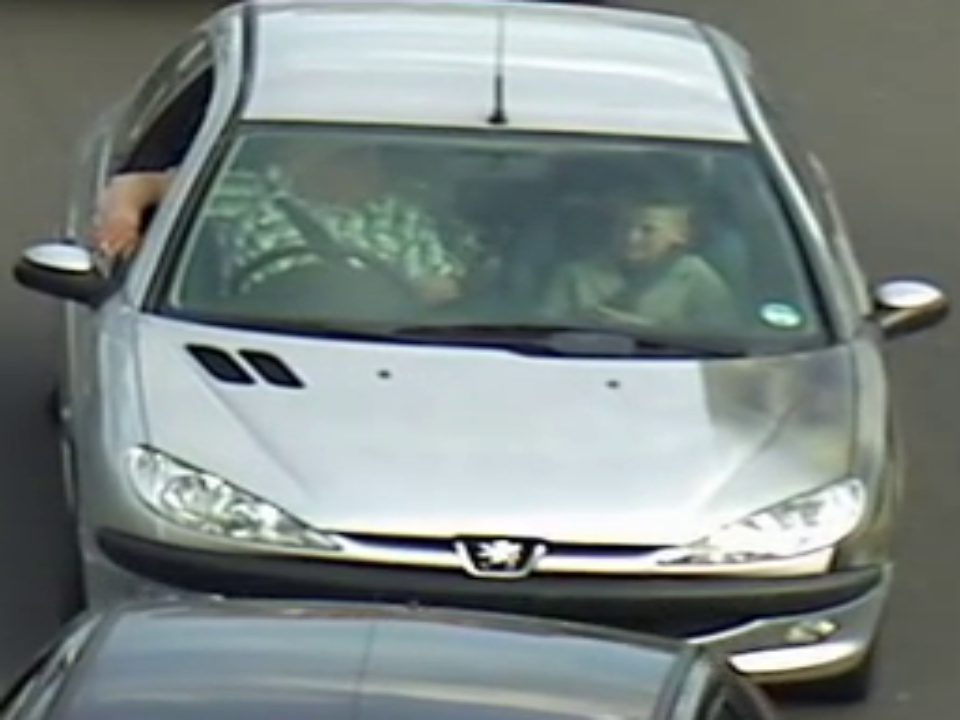TWO: (207, 123, 791, 343)
